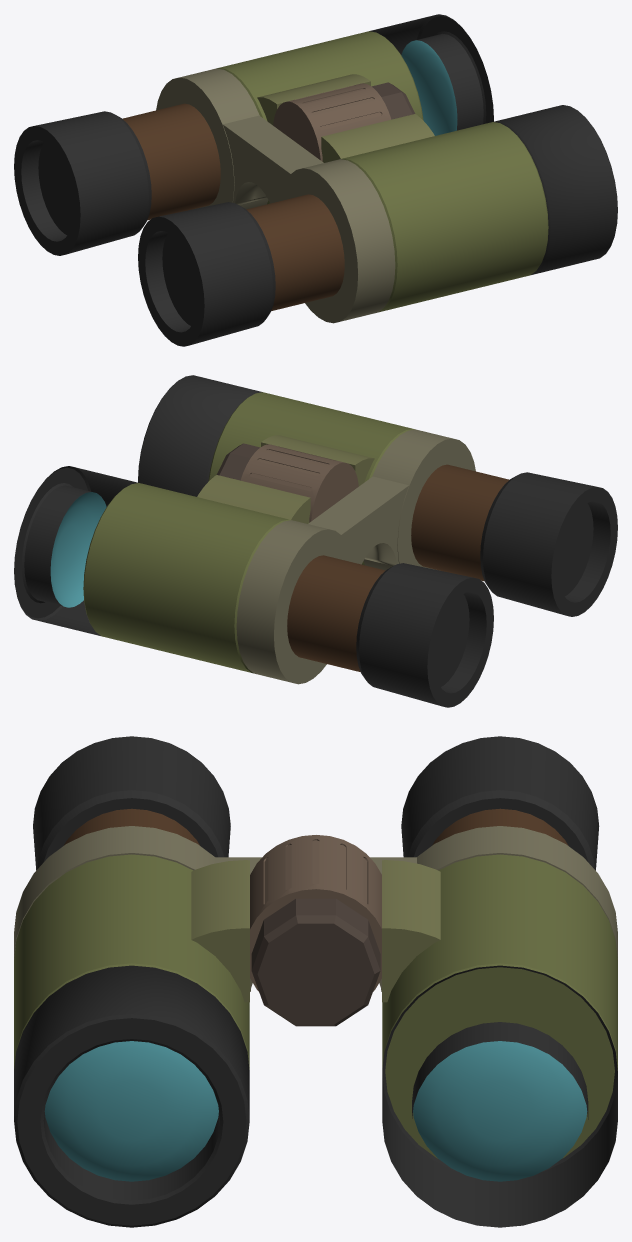
File: binoculars.glb
3 renders of one model, top to bottom at view 1: azimuth 30°, elevation 25°; view 2: azimuth 150°, elevation 25°; view 3: azimuth 270°, elevation 25°, orthographic. The views are drawn at different scales.
Visible parts, largest first — view 1: Cylinder.003, Cylinder.011, Cylinder.013, Cylinder.004, Cylinder.005, Cylinder.007, Cylinder.010, Cylinder.012, Cylinder.008, Cube, Cylinder.009, Cylinder.001 (+4 smaller); view 2: Cylinder.007, Cylinder.013, Cylinder.011, Cylinder.009, Cylinder.004, Cylinder.008, Cylinder.003, Cylinder.012, Cylinder.010, Cube, Cylinder.005, Cylinder.001 (+4 smaller); view 3: Cylinder.007, Cylinder.004, Cylinder.003, Cylinder.014, Cylinder.015, Cylinder.008, Cylinder.011, Cylinder.013, Cylinder, Cylinder.001, Cylinder.002, Cylinder.006 (+4 smaller).
Boxes of the visible parts, x1=… form: Cylinder.003: x1=341, y1=122, x2=548, y2=312; Cylinder.011: x1=138, y1=202, x2=275, y2=346; Cylinder.013: x1=14, y1=111, x2=151, y2=255; Cylinder.004: x1=493, y1=105, x2=617, y2=274; Cylinder.005: x1=280, y1=159, x2=395, y2=323; Cylinder.007: x1=217, y1=31, x2=423, y2=204; Cylinder.010: x1=246, y1=194, x2=344, y2=310; Cylinder.012: x1=122, y1=103, x2=220, y2=220; Cylinder.008: x1=369, y1=14, x2=493, y2=130; Cube: x1=223, y1=115, x2=323, y2=204; Cylinder.009: x1=156, y1=68, x2=268, y2=209; Cylinder.001: x1=273, y1=83, x2=391, y2=161; Cylinder.007: x1=83, y1=483, x2=290, y2=673; Cylinder.013: x1=356, y1=563, x2=493, y2=707; Cylinder.011: x1=480, y1=472, x2=617, y2=616; Cylinder.009: x1=236, y1=520, x2=351, y2=684; Cylinder.004: x1=138, y1=375, x2=262, y2=496; Cylinder.008: x1=14, y1=466, x2=138, y2=635; Cylinder.003: x1=208, y1=392, x2=414, y2=565; Cylinder.012: x1=287, y1=555, x2=385, y2=671; Cylinder.010: x1=411, y1=464, x2=509, y2=581; Cube: x1=308, y1=476, x2=408, y2=565; Cylinder.005: x1=363, y1=429, x2=475, y2=570; Cylinder.001: x1=240, y1=444, x2=358, y2=522; Cylinder.007: x1=382, y1=854, x2=617, y2=1158; Cylinder.004: x1=14, y1=965, x2=249, y2=1227; Cylinder.003: x1=14, y1=854, x2=249, y2=1070; Cylinder.014: x1=44, y1=1041, x2=218, y2=1181; Cylinder.015: x1=413, y1=1041, x2=587, y2=1181; Cylinder.008: x1=382, y1=965, x2=617, y2=1227; Cylinder.011: x1=33, y1=736, x2=230, y2=870; Cylinder.013: x1=401, y1=736, x2=599, y2=870; Cylinder: x1=251, y1=898, x2=380, y2=1026; Cylinder.001: x1=250, y1=835, x2=381, y2=991; Cylinder.002: x1=191, y1=860, x2=249, y2=1002; Cylinder.006: x1=382, y1=860, x2=440, y2=1002.
Size of the model in its own units: 8.69 by 3.21 by 7.5.
